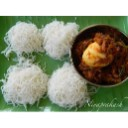idiyappam: (48, 61, 88, 108), (2, 67, 46, 106), (43, 22, 75, 57), (8, 23, 42, 54)
